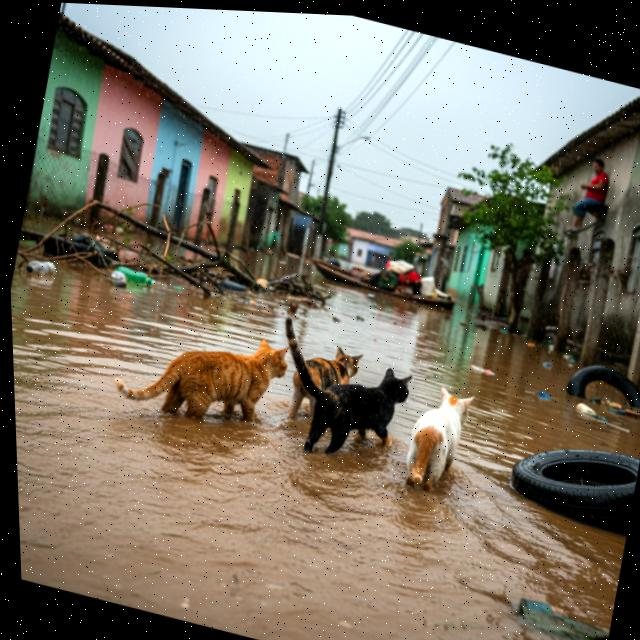cat: (89, 294, 299, 453), (256, 309, 431, 485), (392, 369, 486, 504), (277, 330, 372, 437)
civilian: (560, 143, 622, 243)
